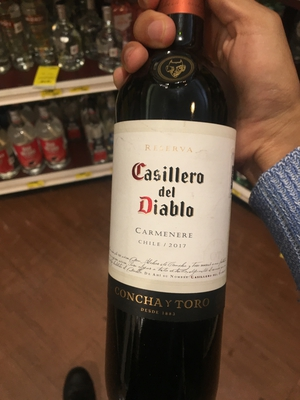casillero del diablo carmenere: (107, 31, 241, 400)
